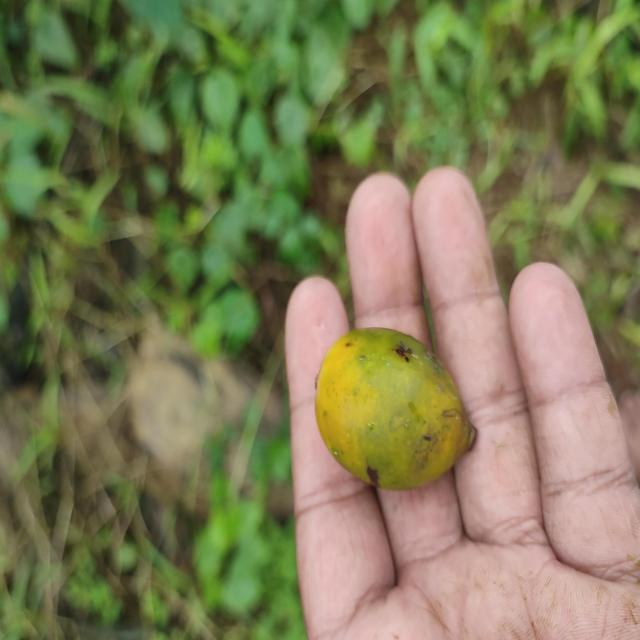good: (314, 328, 477, 493)
